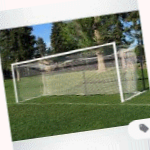goals: (8, 41, 143, 107)
